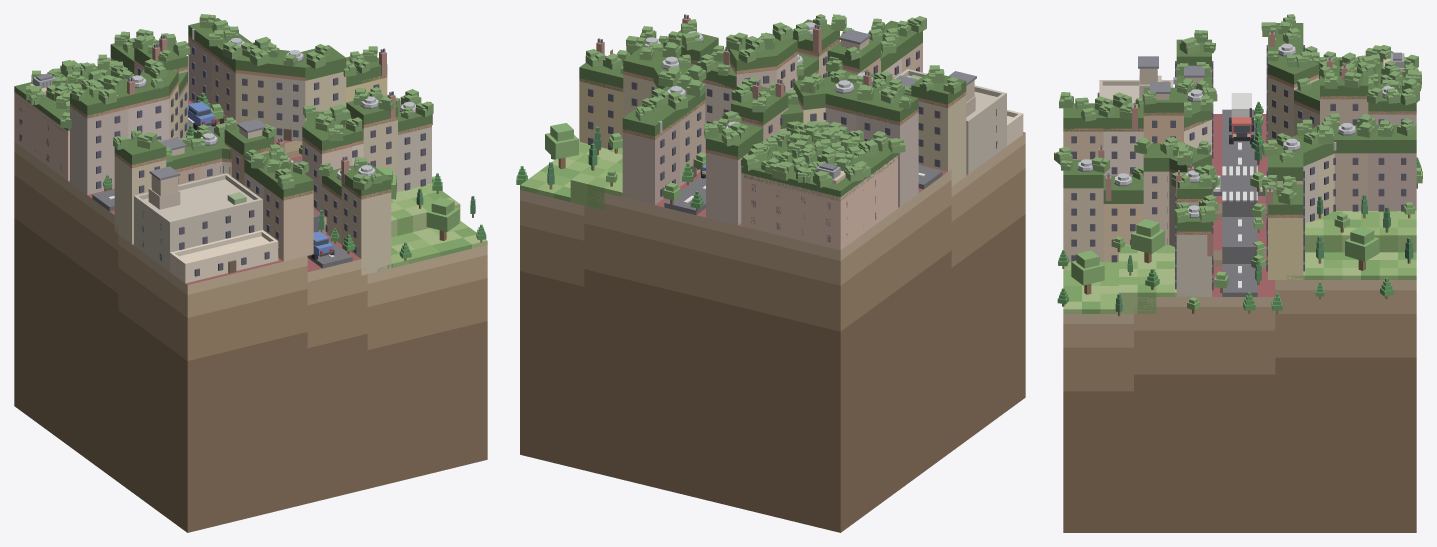
The model's file is block_18_greenroof_55.glb.
3 views of the same model, side by side, from view 1: azimuth 30°, elevation 25°; view 2: azimuth 150°, elevation 25°; view 3: azimuth 270°, elevation 25° (orthographic). The views are drawn at different scales.
Parts seen in each view (by area): view 1: Patch_MidRight_b17_GR, Cerda_MidRight_b17_GR, Insets_MidRight_b17_GR, GR_Roof_Cerda_MidRight_b17_GR, Green_MidRight_b17_GR, CerdaRoofProps_MidRight_b17_GR, Roads_MidRight_b17_GR, Asset_Tree_Round.071_GR, GR_Roof_Insets_MidRight_b17_GR, Asset_Car.038_GR; view 2: Patch_MidRight_b17_GR, Cerda_MidRight_b17_GR, GR_Roof_Cerda_MidRight_b17_GR, Insets_MidRight_b17_GR, Green_MidRight_b17_GR, CerdaRoofProps_MidRight_b17_GR, GR_Roof_Insets_MidRight_b17_GR, Roads_MidRight_b17_GR, Asset_Tree_Round.064_GR; view 3: Patch_MidRight_b17_GR, Cerda_MidRight_b17_GR, GR_Roof_Cerda_MidRight_b17_GR, Green_MidRight_b17_GR, Roads_MidRight_b17_GR, CerdaRoofProps_MidRight_b17_GR, Asset_Truck.010_GR, Asset_Tree_Round.064_GR, Asset_Tree_Round.071_GR, Asset_Tree_Round.070_GR, Insets_MidRight_b17_GR, Zebra_MidRight_b17_GR.
Boxes of the visible parts, x1=… form: Patch_MidRight_b17_GR: x1=14, y1=99, x2=487, y2=532; Cerda_MidRight_b17_GR: x1=70, y1=35, x2=431, y2=275; Insets_MidRight_b17_GR: x1=14, y1=83, x2=278, y2=283; GR_Roof_Cerda_MidRight_b17_GR: x1=70, y1=18, x2=431, y2=200; Green_MidRight_b17_GR: x1=377, y1=183, x2=487, y2=271; CerdaRoofProps_MidRight_b17_GR: x1=33, y1=29, x2=432, y2=196; Roads_MidRight_b17_GR: x1=92, y1=104, x2=352, y2=268; Asset_Tree_Round.071_GR: x1=426, y1=197, x2=459, y2=240; GR_Roof_Insets_MidRight_b17_GR: x1=14, y1=66, x2=109, y2=134; Asset_Car.038_GR: x1=188, y1=101, x2=216, y2=129; Patch_MidRight_b17_GR: x1=520, y1=132, x2=1025, y2=532; Cerda_MidRight_b17_GR: x1=579, y1=39, x2=966, y2=225; GR_Roof_Cerda_MidRight_b17_GR: x1=579, y1=19, x2=966, y2=159; Insets_MidRight_b17_GR: x1=741, y1=69, x2=1023, y2=250; Green_MidRight_b17_GR: x1=520, y1=142, x2=637, y2=209; CerdaRoofProps_MidRight_b17_GR: x1=596, y1=14, x2=976, y2=179; GR_Roof_Insets_MidRight_b17_GR: x1=741, y1=140, x2=897, y2=200; Roads_MidRight_b17_GR: x1=664, y1=138, x2=942, y2=214; Asset_Tree_Round.064_GR: x1=545, y1=123, x2=578, y2=168; Patch_MidRight_b17_GR: x1=1063, y1=114, x2=1416, y2=532; Cerda_MidRight_b17_GR: x1=1063, y1=45, x2=1416, y2=296; GR_Roof_Cerda_MidRight_b17_GR: x1=1063, y1=23, x2=1416, y2=234; Green_MidRight_b17_GR: x1=1063, y1=211, x2=1416, y2=313; Roads_MidRight_b17_GR: x1=1213, y1=109, x2=1264, y2=296; CerdaRoofProps_MidRight_b17_GR: x1=1077, y1=29, x2=1404, y2=256; Asset_Truck.010_GR: x1=1229, y1=93, x2=1254, y2=144; Asset_Tree_Round.064_GR: x1=1345, y1=226, x2=1379, y2=270; Asset_Tree_Round.071_GR: x1=1071, y1=250, x2=1104, y2=294; Asset_Tree_Round.070_GR: x1=1131, y1=219, x2=1164, y2=263; Insets_MidRight_b17_GR: x1=1097, y1=58, x2=1403, y2=103; Zebra_MidRight_b17_GR: x1=1213, y1=166, x2=1266, y2=201.
Size of the model in its own units: 10.32 by 11.16 by 9.91.
